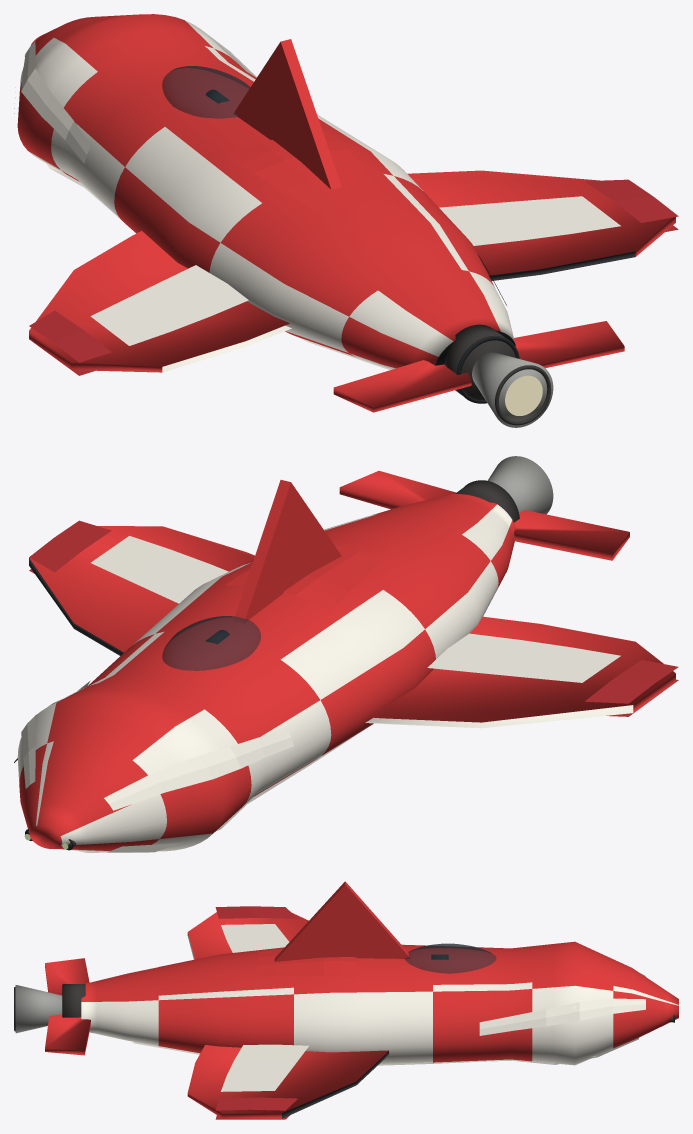
Rendered from Ship_Orca_583214.glb.
3 renders of one model, top to bottom at view 1: azimuth 30°, elevation 25°; view 2: azimuth 150°, elevation 25°; view 3: azimuth 270°, elevation 25°, orthographic. The views are drawn at different scales.
Visible parts, largest first — view 1: Fuselage_OrcaCountershadedHull, PectoralFin_Left_AerofoilWingFin, PectoralFin_Right_AerofoilWingFin, PectoralFinPaint_Left_BroadSimplePanelTop, PectoralFinPaint_Right_BroadSimplePanelTop, PaintSaddlePatch_DorsalSweptBackMark, TailFluke_Left_SweptAftStabilizer, DorsalFin_MainSweptKeel, CanopyGlass_LowInsetDome, DorsalFinTrimPatch_LeftFace, TailFluke_Right_SweptAftStabilizer, EngineBell_MainLargeBurnishedNozzle (+6 smaller); view 2: Fuselage_OrcaCountershadedHull, PectoralFin_Left_AerofoilWingFin, PectoralFin_Right_AerofoilWingFin, PectoralFinPaint_Left_BroadSimplePanelTop, PectoralFinPaint_Right_BroadSimplePanelTop, PaintEyePatch_Left_ForwardWhiteComma, CanopyGlass_LowInsetDome, TailFluke_Left_SweptAftStabilizer, DorsalFin_MainSweptKeel, DorsalFinTrimPatch_LeftFace, PaintSaddlePatch_DorsalSweptBackMark, TailFluke_Right_SweptAftStabilizer (+6 smaller); view 3: Fuselage_OrcaCountershadedHull, PectoralFin_Right_AerofoilWingFin, DorsalFinTrimPatch_RightFace, PectoralFinPaint_Right_BroadSimplePanelTop, PaintEyePatch_Right_ForwardWhiteComma, DorsalFin_MainSweptKeel, PectoralFin_Left_AerofoilWingFin, CanopyGlass_LowInsetDome, PaintSaddlePatch_DorsalSweptBackMark, EngineBell_MainLargeBurnishedNozzle, TailFluke_Right_SweptAftStabilizer, PectoralFinPaint_Left_BroadSimplePanelTop (+5 smaller).
Boxes of the visible parts, left/top/right/bottom form: Fuselage_OrcaCountershadedHull: left=17, top=14, right=515, bottom=369; PectoralFin_Left_AerofoilWingFin: left=29, top=231, right=291, bottom=372; PectoralFin_Right_AerofoilWingFin: left=407, top=170, right=675, bottom=280; PectoralFinPaint_Left_BroadSimplePanelTop: left=90, top=265, right=248, bottom=345; PectoralFinPaint_Right_BroadSimplePanelTop: left=439, top=196, right=620, bottom=245; PaintSaddlePatch_DorsalSweptBackMark: left=225, top=132, right=382, bottom=210; TailFluke_Left_SweptAftStabilizer: left=333, top=360, right=471, bottom=412; DorsalFin_MainSweptKeel: left=233, top=39, right=341, bottom=189; CanopyGlass_LowInsetDome: left=162, top=66, right=250, bottom=118; DorsalFinTrimPatch_LeftFace: left=242, top=64, right=322, bottom=178; TailFluke_Right_SweptAftStabilizer: left=514, top=321, right=624, bottom=368; EngineBell_MainLargeBurnishedNozzle: left=472, top=352, right=553, bottom=427; Fuselage_OrcaCountershadedHull: left=17, top=493, right=515, bottom=851; PectoralFin_Left_AerofoilWingFin: left=365, top=616, right=675, bottom=728; PectoralFin_Right_AerofoilWingFin: left=29, top=526, right=254, bottom=655; PectoralFinPaint_Left_BroadSimplePanelTop: left=427, top=633, right=620, bottom=682; PectoralFinPaint_Right_BroadSimplePanelTop: left=91, top=536, right=228, bottom=603; PaintEyePatch_Left_ForwardWhiteComma: left=104, top=728, right=293, bottom=810; CanopyGlass_LowInsetDome: left=162, top=616, right=260, bottom=670; TailFluke_Left_SweptAftStabilizer: left=514, top=510, right=629, bottom=560; DorsalFin_MainSweptKeel: left=233, top=480, right=341, bottom=623; DorsalFinTrimPatch_LeftFace: left=254, top=502, right=333, bottom=611; PaintSaddlePatch_DorsalSweptBackMark: left=225, top=545, right=382, bottom=610; TailFluke_Right_SweptAftStabilizer: left=339, top=471, right=455, bottom=509; Fuselage_OrcaCountershadedHull: left=81, top=941, right=678, bottom=1065; PectoralFin_Right_AerofoilWingFin: left=187, top=1045, right=389, bottom=1118; DorsalFinTrimPatch_RightFace: left=286, top=900, right=397, bottom=958; PectoralFinPaint_Right_BroadSimplePanelTop: left=221, top=1044, right=308, bottom=1091; PaintEyePatch_Right_ForwardWhiteComma: left=479, top=998, right=645, bottom=1035; DorsalFin_MainSweptKeel: left=274, top=881, right=410, bottom=961; PectoralFin_Left_AerofoilWingFin: left=187, top=912, right=308, bottom=959; CanopyGlass_LowInsetDome: left=405, top=943, right=496, bottom=973; PaintSaddlePatch_DorsalSweptBackMark: left=258, top=948, right=356, bottom=977; EngineBell_MainLargeBurnishedNozzle: left=15, top=985, right=62, bottom=1033; TailFluke_Right_SweptAftStabilizer: left=45, top=1014, right=90, bottom=1055; PectoralFinPaint_Left_BroadSimplePanelTop: left=221, top=924, right=289, bottom=952.
Bounding box in the file's own units: 5.54 × 2.14 × 7.59.
